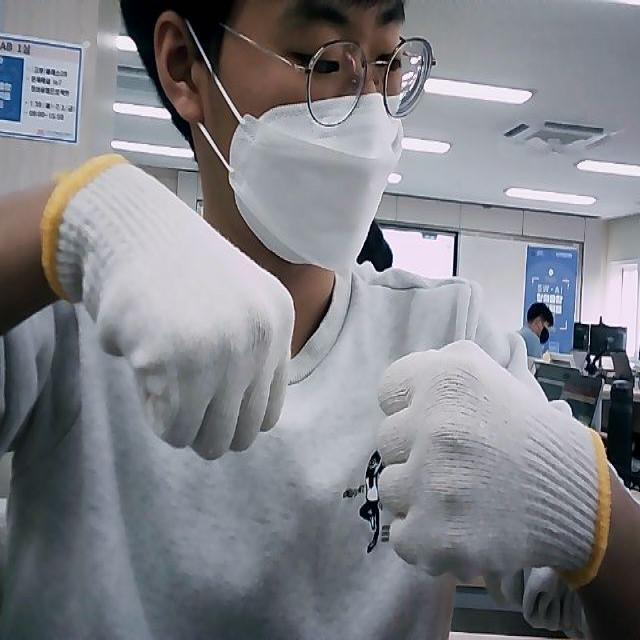gloves: (41, 150, 296, 458), (376, 338, 610, 584)
